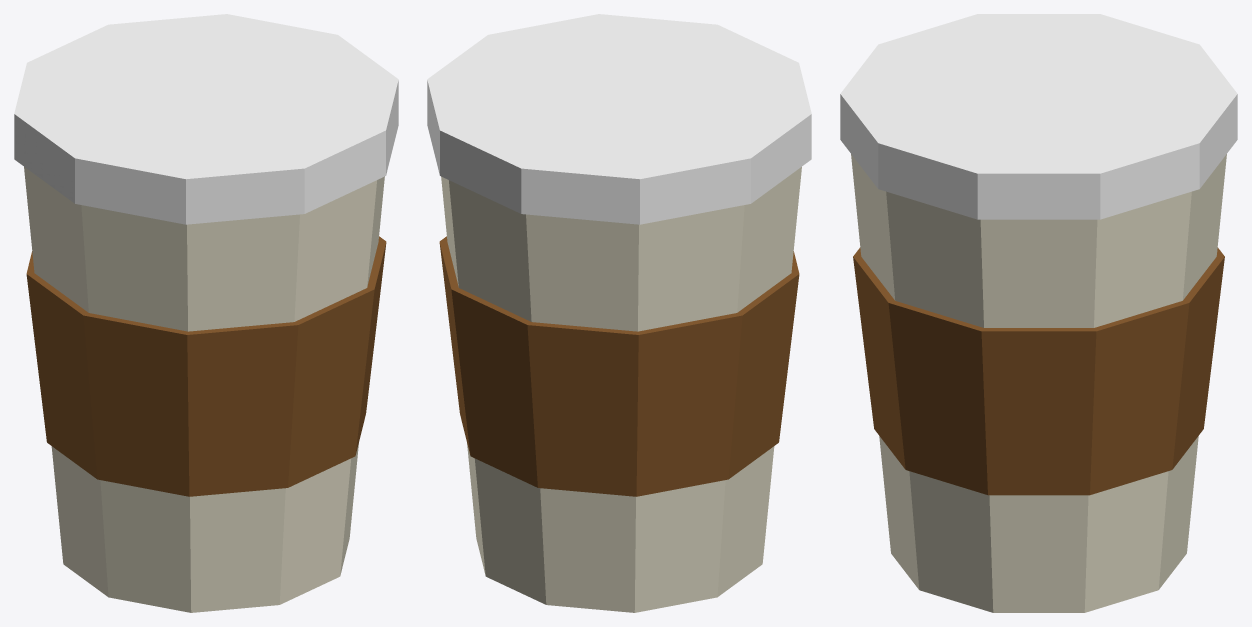
Rendered from coffee_cup.glb.
3 views of the same model, side by side, from view 1: azimuth 30°, elevation 25°; view 2: azimuth 150°, elevation 25°; view 3: azimuth 270°, elevation 25° (orthographic).
Parts seen in each view (by area): view 1: cup_cup_paper, lid_cup_lid, sleeve_cup_sleeve; view 2: cup_cup_paper, lid_cup_lid, sleeve_cup_sleeve; view 3: cup_cup_paper, lid_cup_lid, sleeve_cup_sleeve.
Part boxes in pixels (x1,y1,x2,y2): cup_cup_paper: (24, 167, 384, 612); lid_cup_lid: (14, 14, 398, 224); sleeve_cup_sleeve: (26, 236, 386, 496); cup_cup_paper: (441, 167, 801, 612); lid_cup_lid: (427, 14, 811, 224); sleeve_cup_sleeve: (439, 236, 799, 496); cup_cup_paper: (851, 154, 1226, 612); lid_cup_lid: (840, 14, 1237, 219); sleeve_cup_sleeve: (853, 247, 1224, 495).
Size of the model in its own units: 0.0894 by 0.12 by 0.094.
